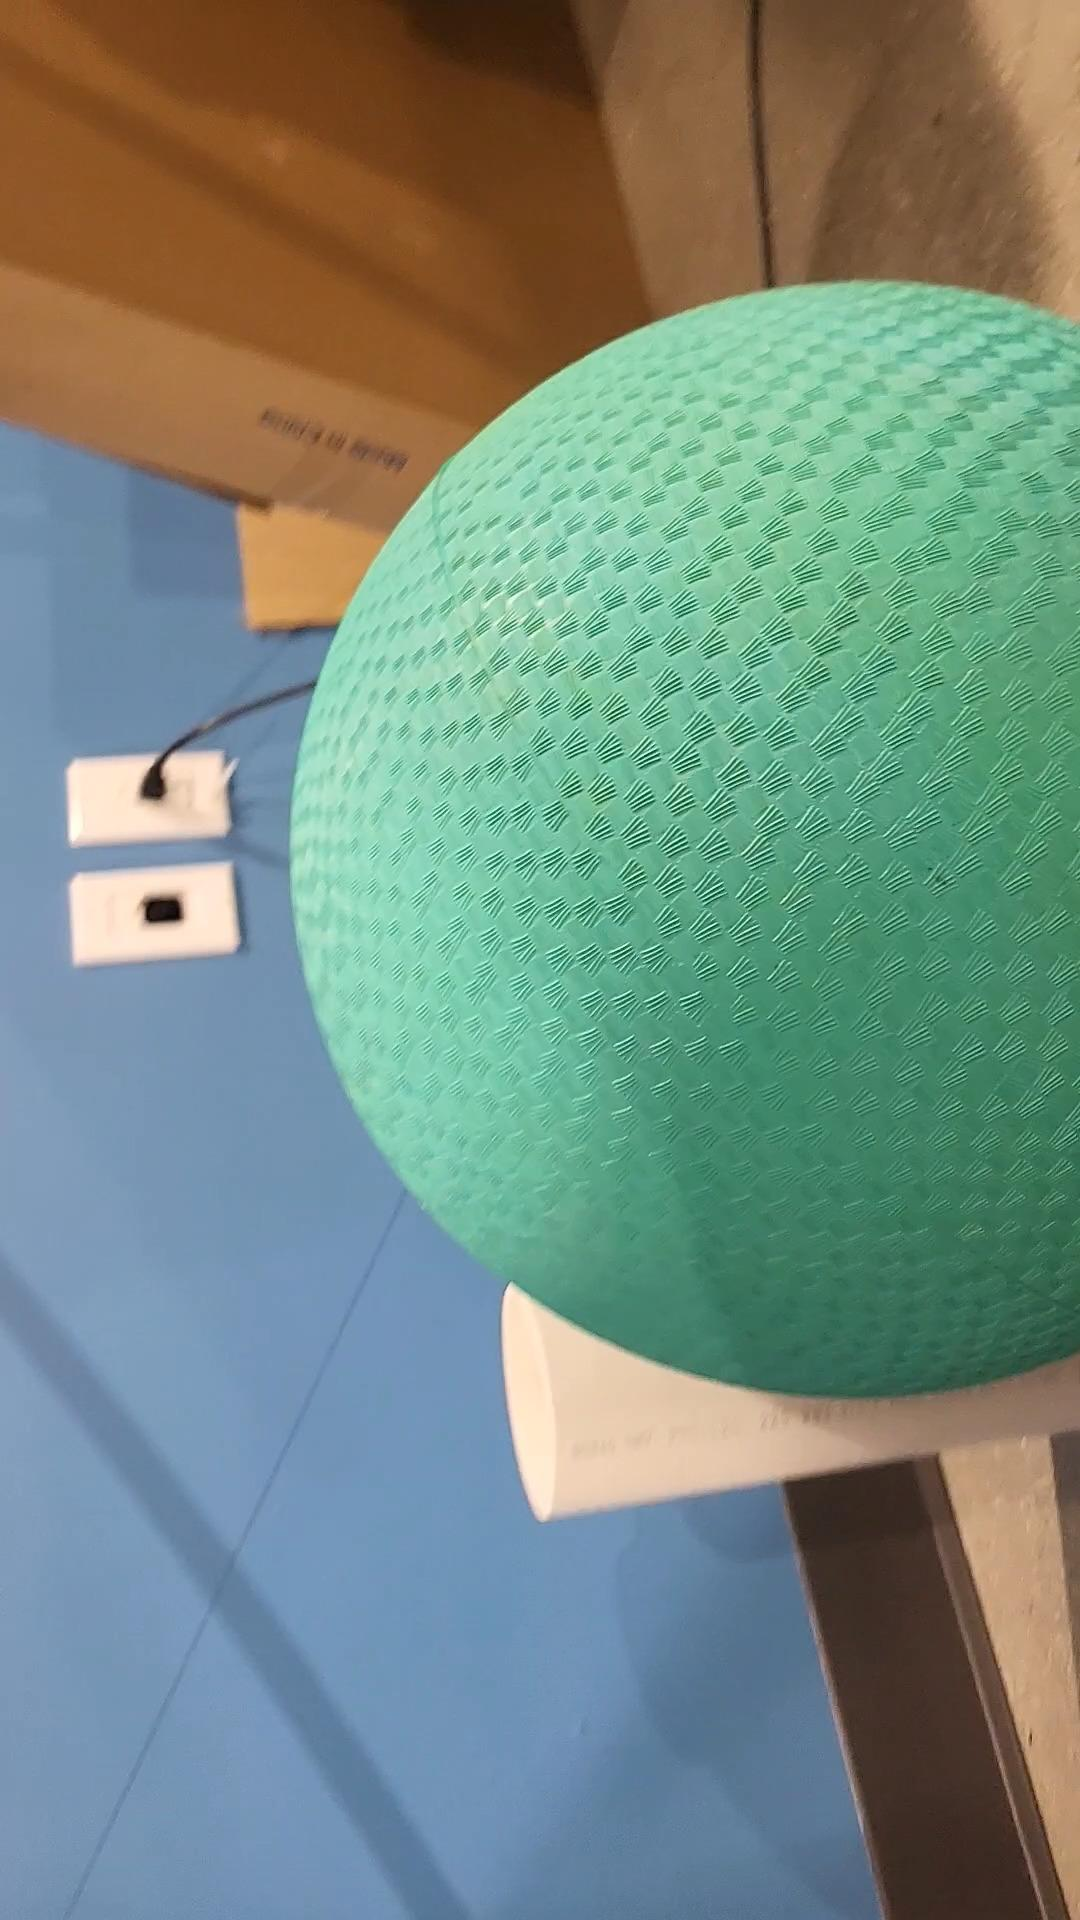algae: (286, 277, 1080, 1394)
coral: (504, 1221, 1080, 1549)
